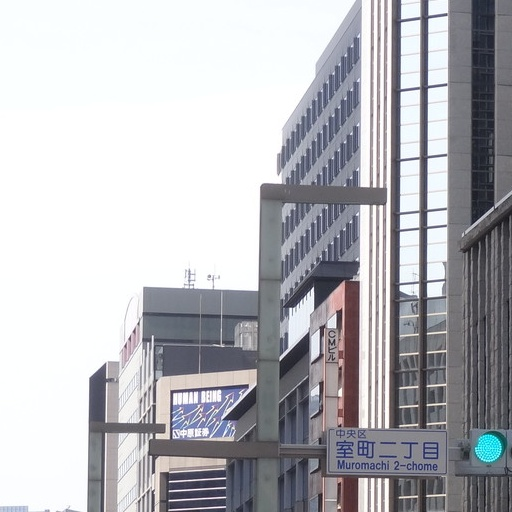Traffic_Signal_Blue: (436, 427, 506, 472)
